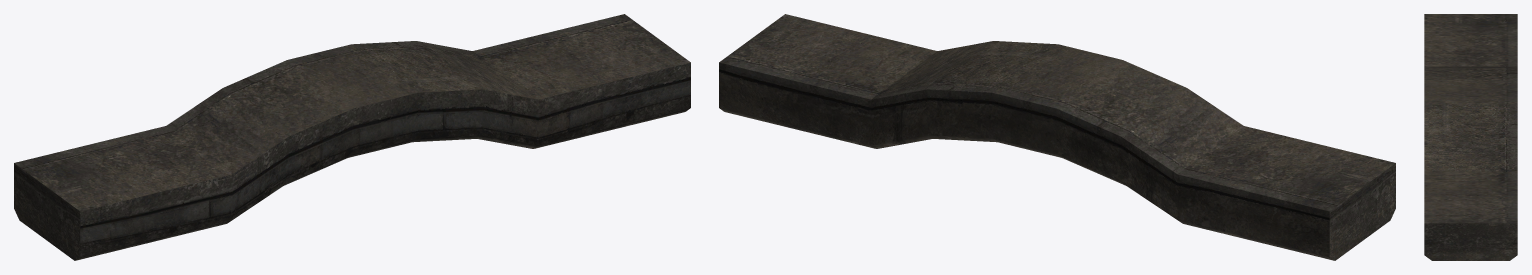
File: tunnel_ceiling_support.DAE
3 renders of one model, left to right at view 1: azimuth 30°, elevation 25°; view 2: azimuth 150°, elevation 25°; view 3: azimuth 270°, elevation 25°, orthographic. The views are drawn at different scales.
Parts seen in each view (by area): view 1: tunnel_ceiling_support; view 2: tunnel_ceiling_support; view 3: tunnel_ceiling_support.
Boxes of the visible parts, x1,y1,x2,y2 form: tunnel_ceiling_support: [14, 14, 690, 260]; tunnel_ceiling_support: [719, 14, 1395, 260]; tunnel_ceiling_support: [1424, 14, 1517, 260].
Bounding box in the file's own units: 4 × 0.7516 × 0.5623.
